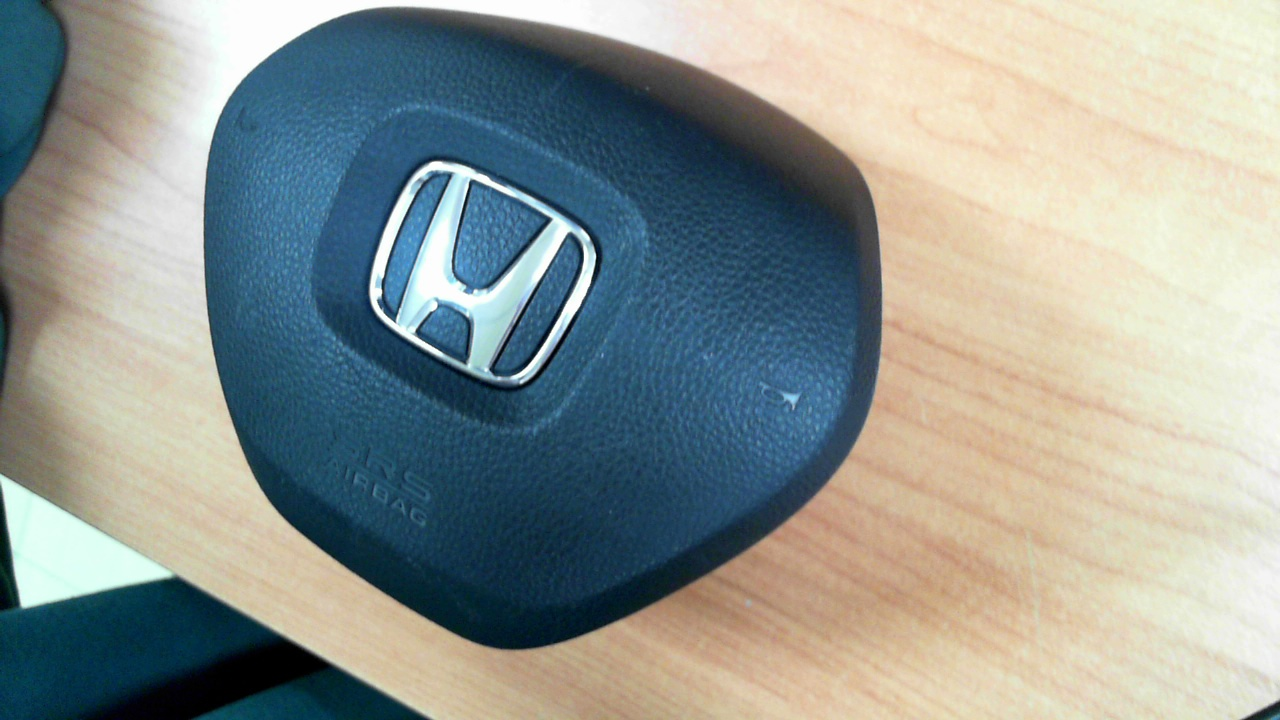Airbag: (212, 17, 883, 647)
Honda: (368, 159, 598, 387)
